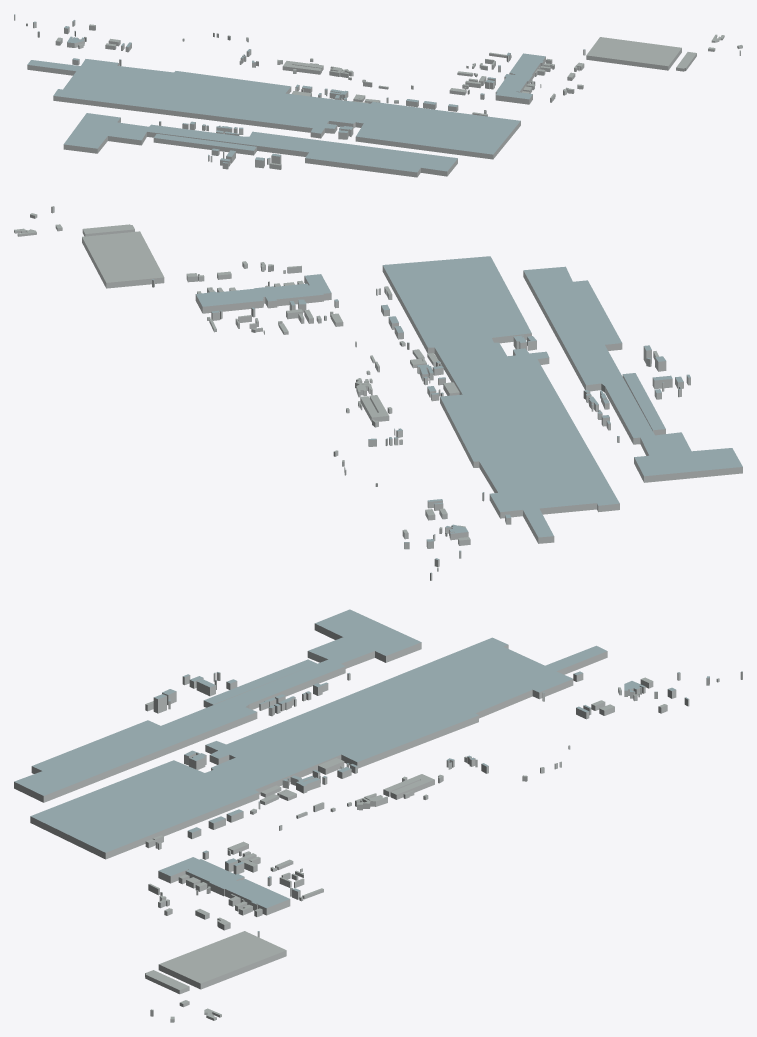
Rendered from far.glb.
The picture shows the model from 3 angles, top to bottom: view 1: azimuth 30°, elevation 25°; view 2: azimuth 150°, elevation 25°; view 3: azimuth 270°, elevation 25°; orthographic projection. The views are drawn at different scales.
Bounding box in the file's own units: 2468 × 40.52 × 1871.
